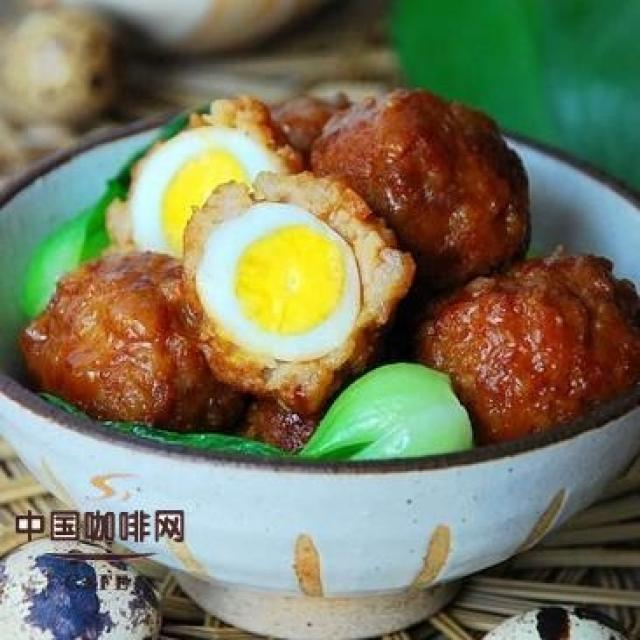猪肉菜式: (11, 58, 619, 570)
